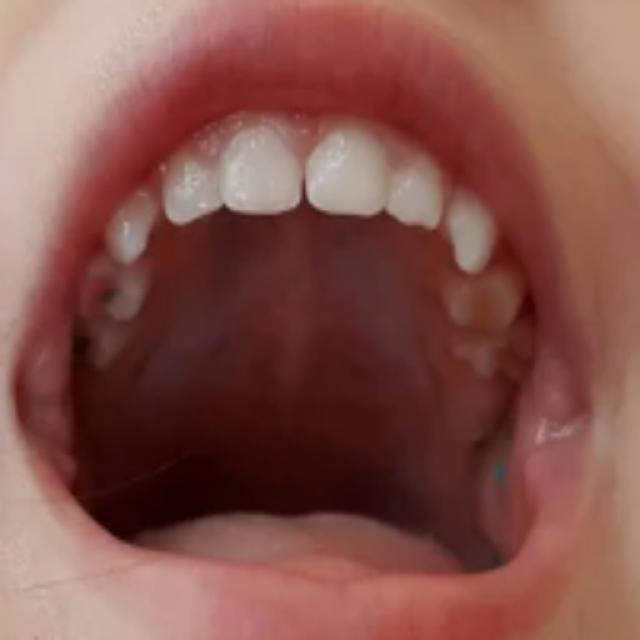processing_area: (18, 215, 568, 589)
